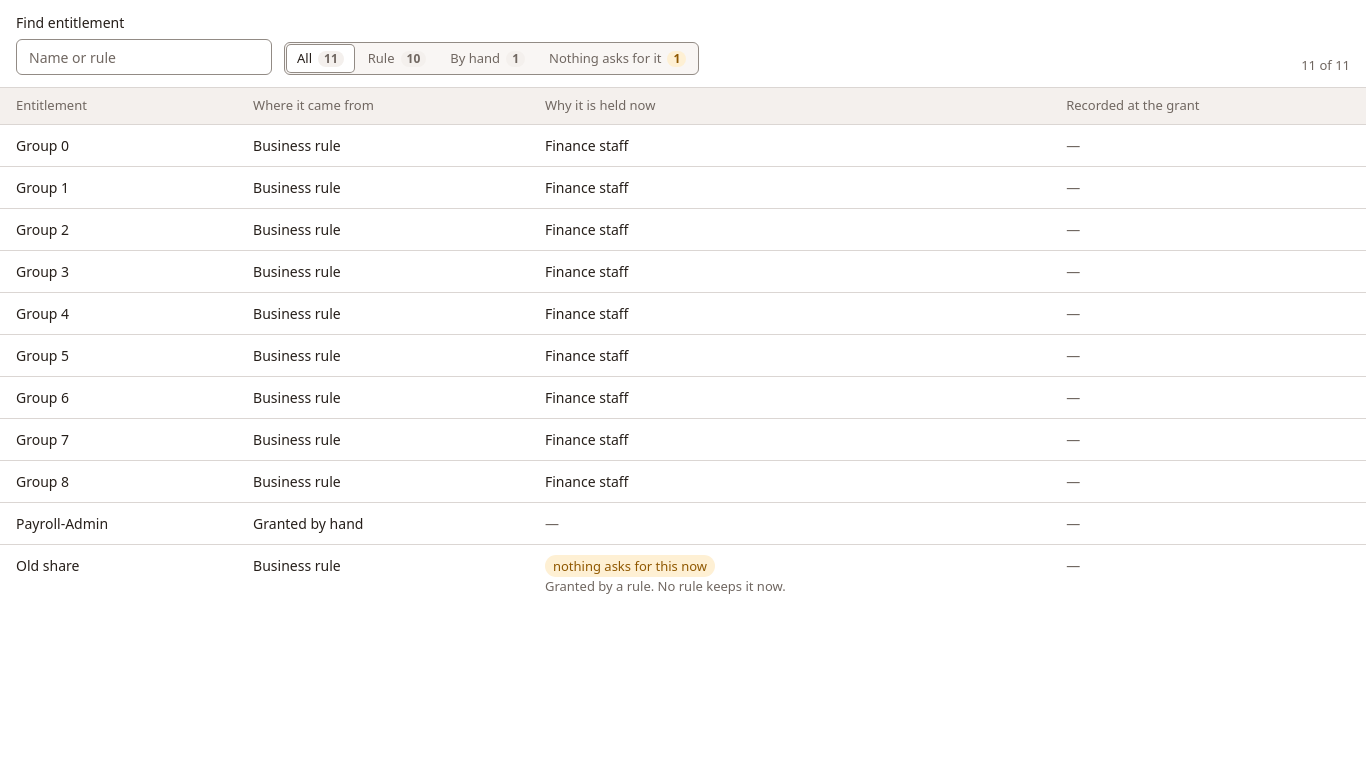
Test case: HoldingsTable › finds one entitlement and shows the active search as a removable chip
In the search field labelled "Find entitlement": (144, 57) [16,39,272,75], type "payroll"
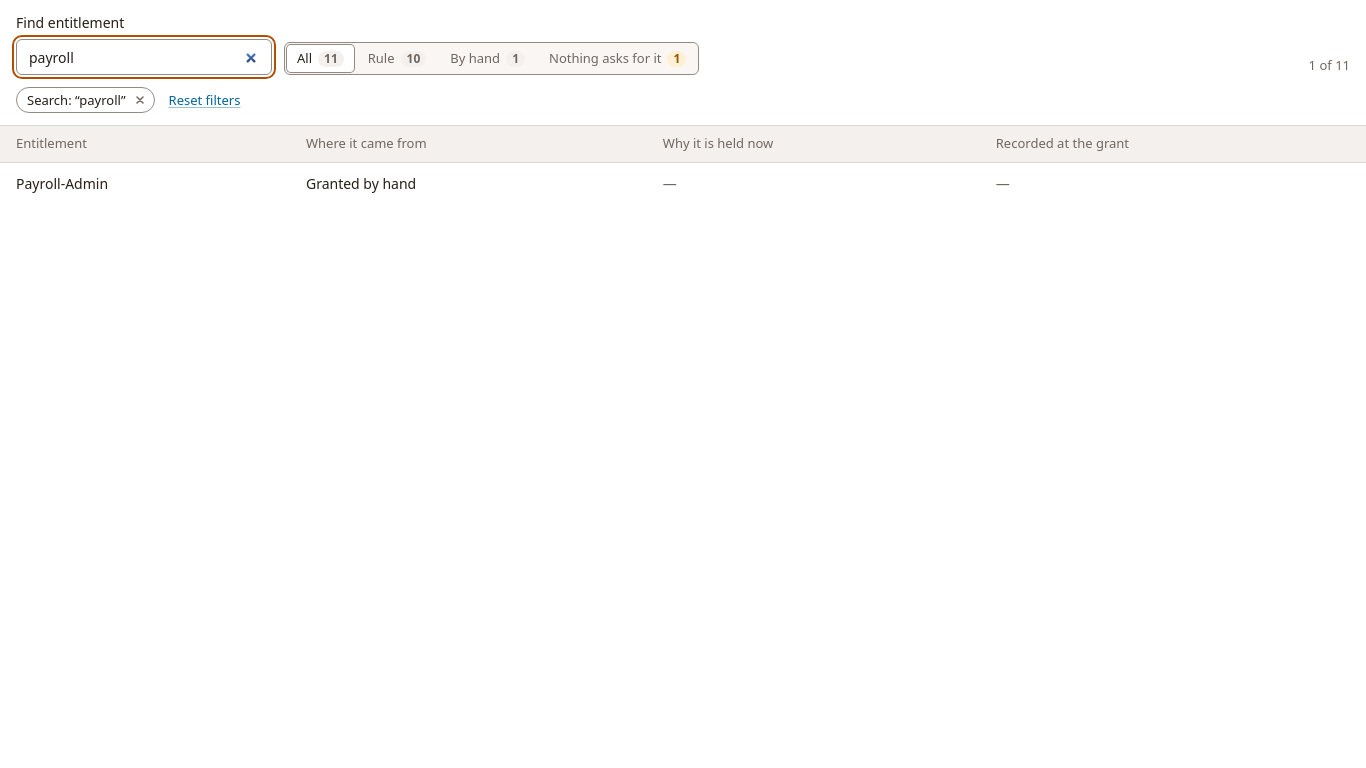
Expected: the text "Payroll-Admin" is shown, [0,162,290,204]
Now the text "Group 1" is gone
Click the button named "Remove filter Search": (140, 100) [130,90,150,110]
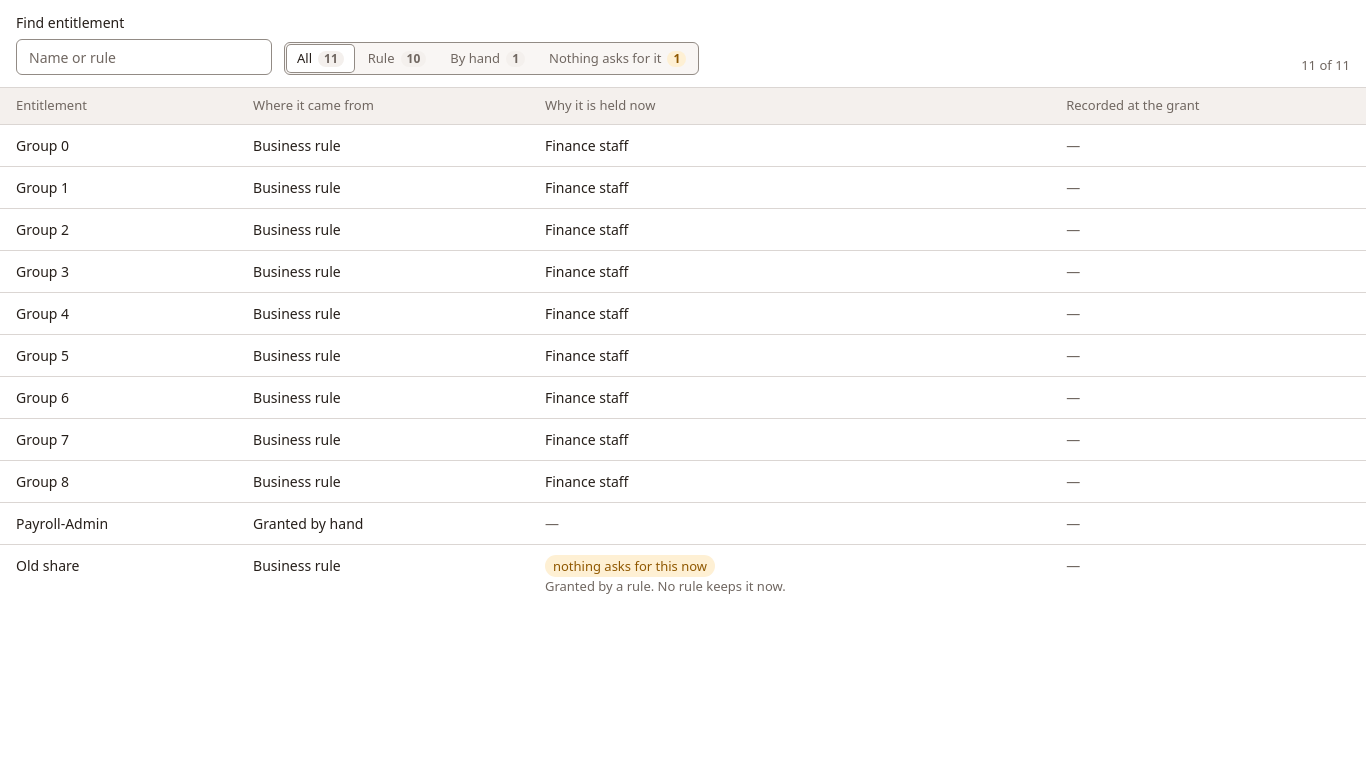
Now the text "Group 1" is shown, box [0,166,237,208]
